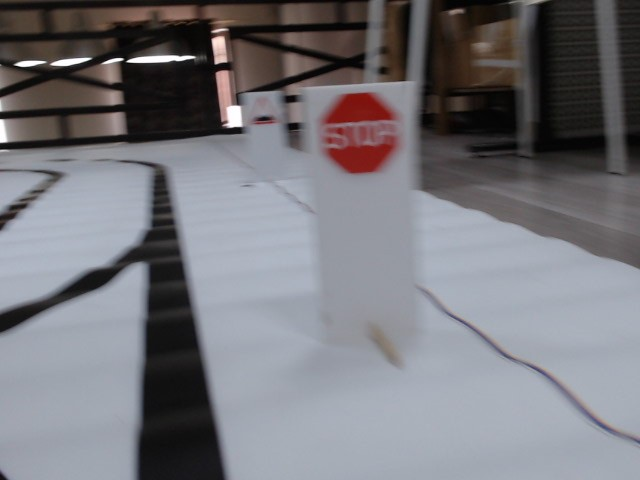Nerov: (251, 97, 282, 125)
Stop: (319, 93, 398, 170)
